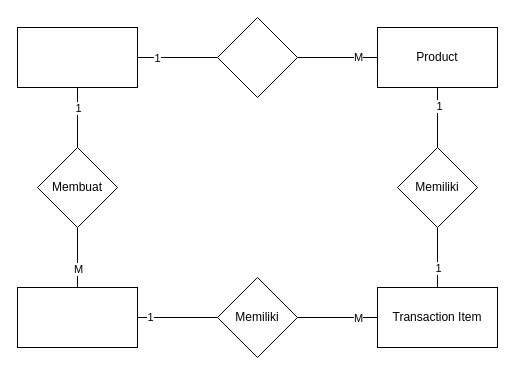
The diagram is 515 pixels wide and 375 high, and some of its shapes have lost their labels. Each missing label, with the centre of its shape:
Cashier: [77,57]
Mengelola: [257,57]
Transaction: [77,317]
